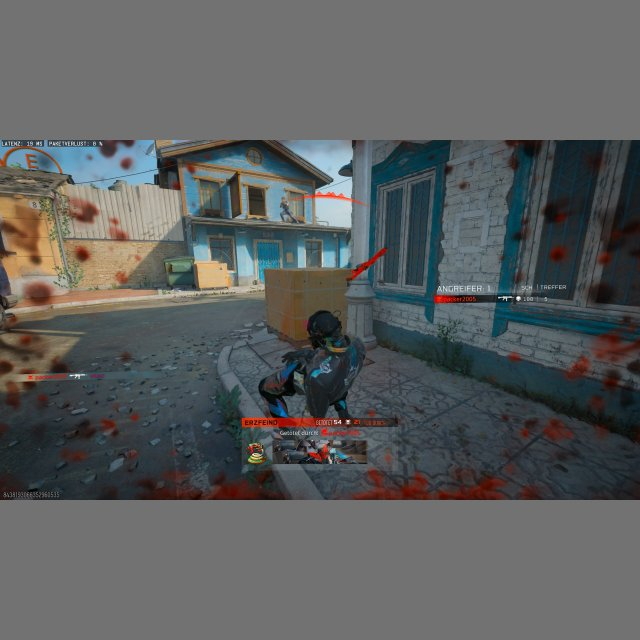head: (306, 310, 342, 347)
player: (257, 310, 368, 420)
